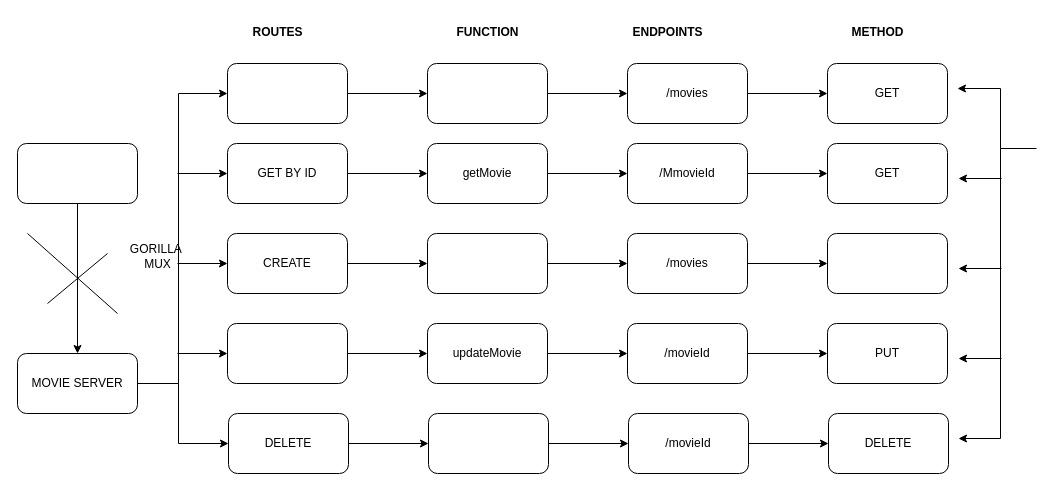
Image size: 1062x491. Some labels were removed from this diagram. Here are the shapes that lost their labels. From the top down, the centre of each, then its label:
At [287,93]: "GET ALL".
At [487,93]: "getMovies".
At [77,173]: "DATABASE".
At [487,263]: "createMovie".
At [887,263]: "POST".
At [287,353]: "UPDATE".
At [488,443]: "deleteMovie".
